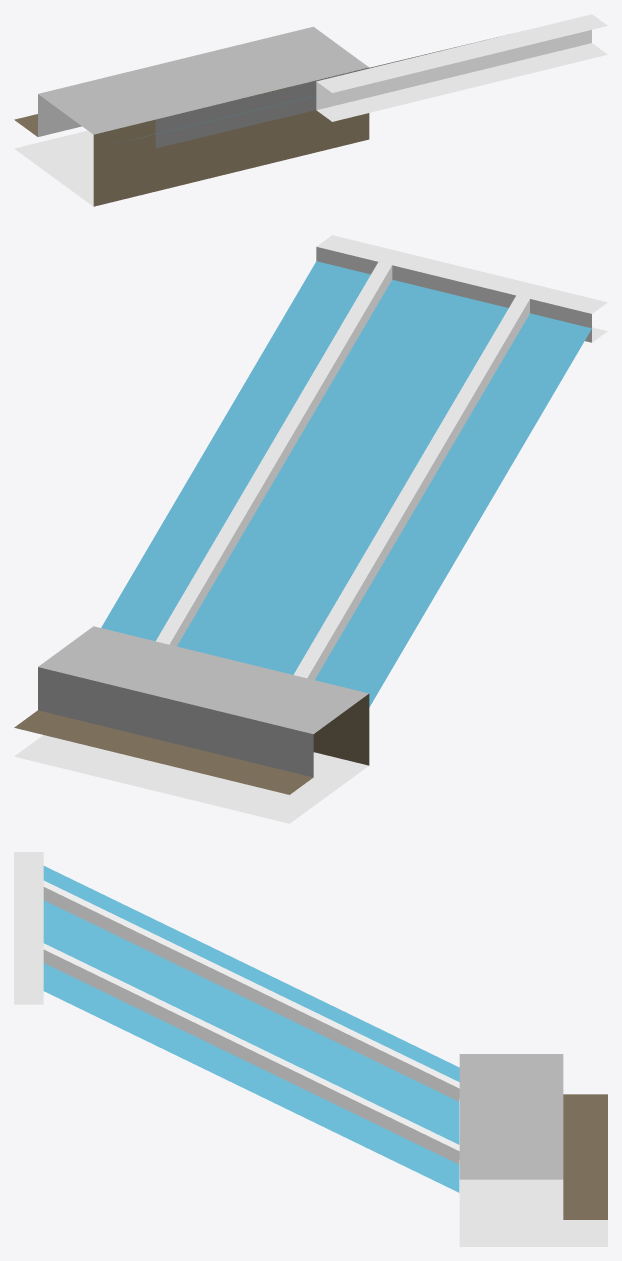
The model's file is SM_Window_Roof_200.FBX.
The picture shows the model from 3 angles, top to bottom: view 1: azimuth 30°, elevation 25°; view 2: azimuth 150°, elevation 25°; view 3: azimuth 270°, elevation 25°; orthographic projection. The views are drawn at different scales.
Visible parts, largest first — view 1: SM_Window_Roof_200; view 2: SM_Window_Roof_200; view 3: SM_Window_Roof_200.
Part boxes in pixels (x1=…): SM_Window_Roof_200: x1=14, y1=14, x2=607, y2=206; SM_Window_Roof_200: x1=14, y1=235, x2=607, y2=823; SM_Window_Roof_200: x1=14, y1=852, x2=607, y2=1246.
Size of the model in its own units: 200 by 400 by 200.
